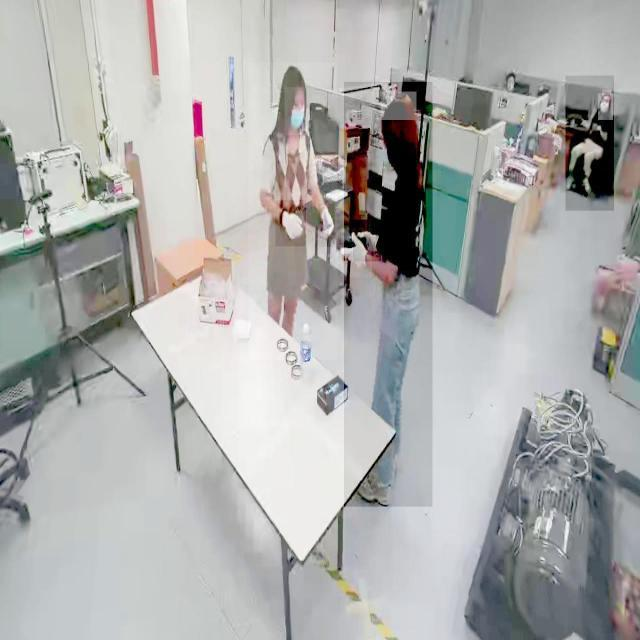gloves: (341, 228, 372, 278), (276, 200, 306, 247), (353, 220, 381, 262), (318, 204, 336, 248)
